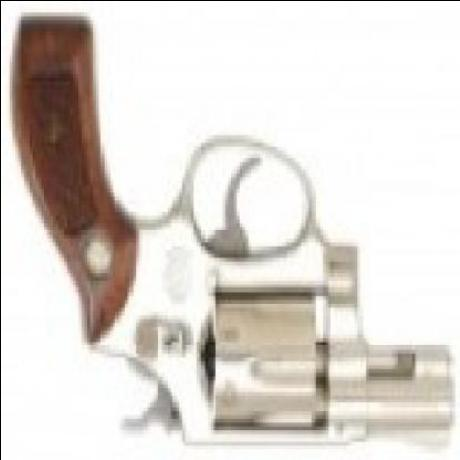weapon: (8, 14, 458, 454)
